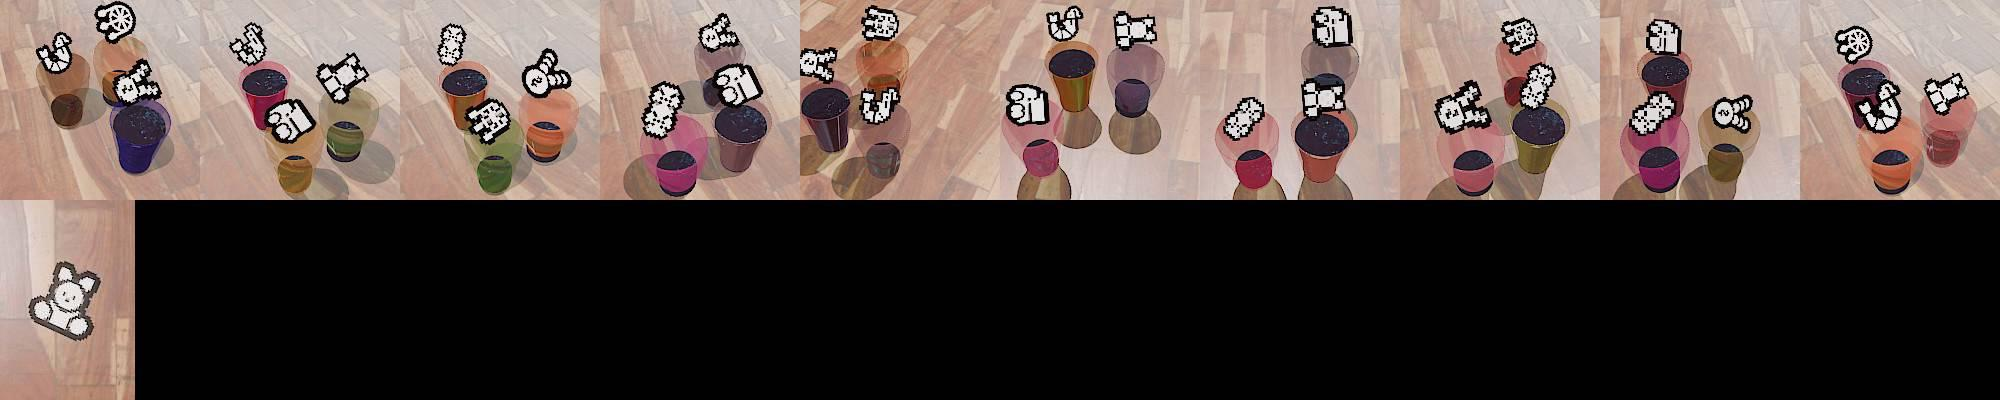icon: (27, 261, 101, 342), (1433, 78, 1491, 134), (639, 81, 686, 141), (520, 46, 572, 98), (1853, 81, 1902, 133), (263, 98, 318, 144), (319, 53, 370, 100), (1629, 89, 1678, 136), (464, 97, 513, 144), (711, 62, 763, 106), (113, 59, 161, 105), (1300, 75, 1347, 120), (1517, 61, 1557, 109), (1223, 96, 1266, 140), (1005, 83, 1049, 126), (856, 86, 901, 128), (1113, 9, 1157, 51), (697, 11, 739, 53), (94, 2, 136, 44), (1711, 93, 1754, 134), (1311, 5, 1351, 48), (1927, 73, 1972, 111), (36, 31, 75, 74), (229, 22, 267, 66), (801, 46, 840, 86), (1500, 17, 1539, 56), (861, 4, 901, 42), (1834, 25, 1873, 63), (1044, 5, 1083, 43), (1646, 18, 1683, 56), (436, 22, 466, 68)
